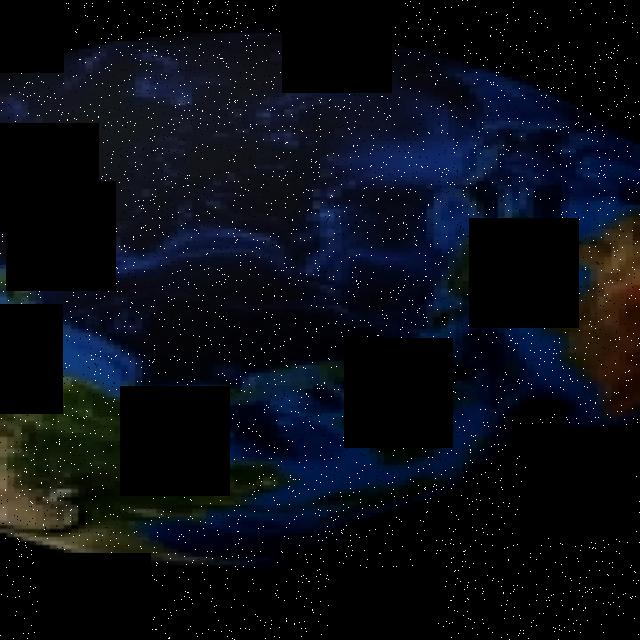Earth: (0, 28, 640, 568)
